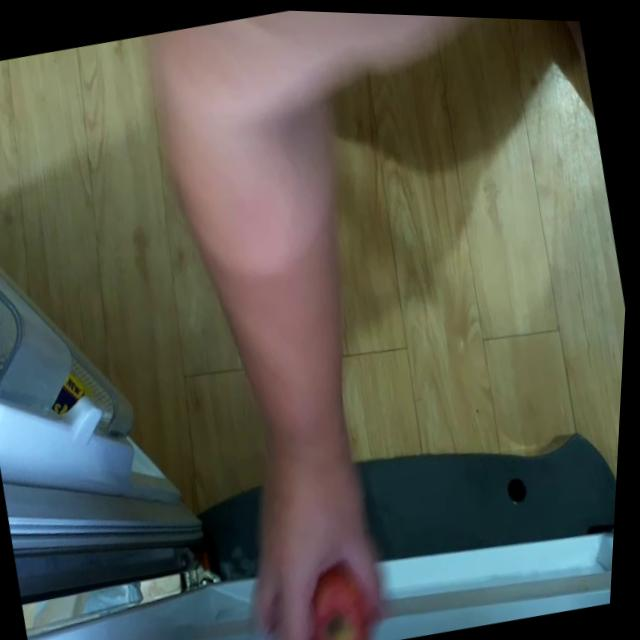apple: (294, 554, 392, 640)
